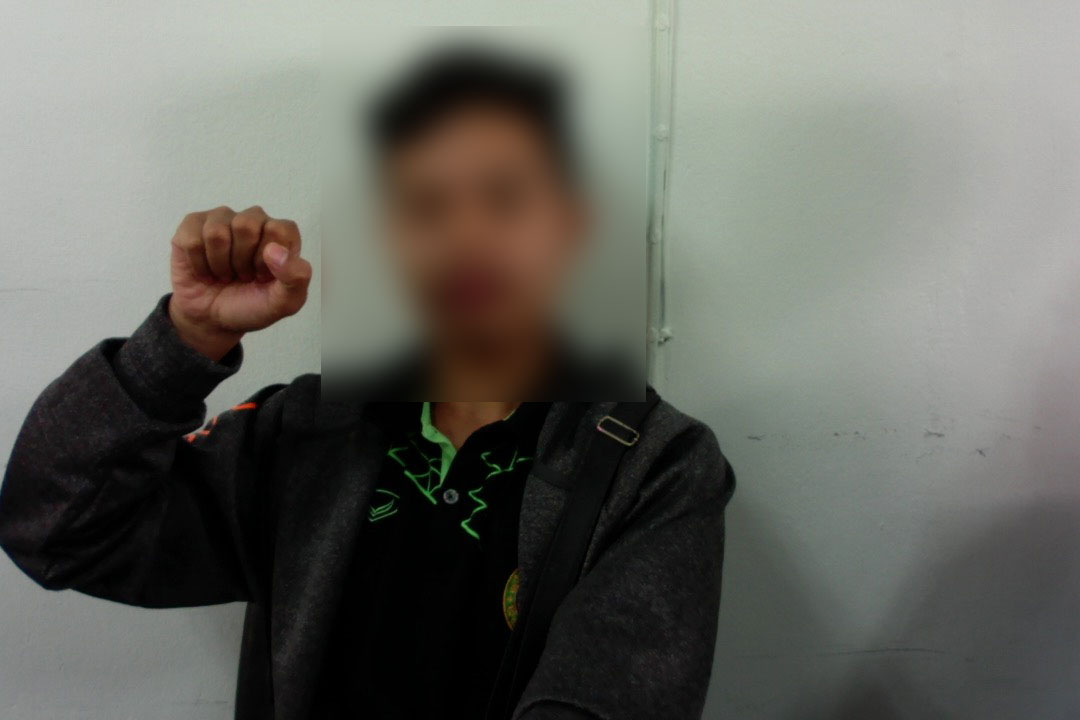sor: (163, 198, 321, 347)
